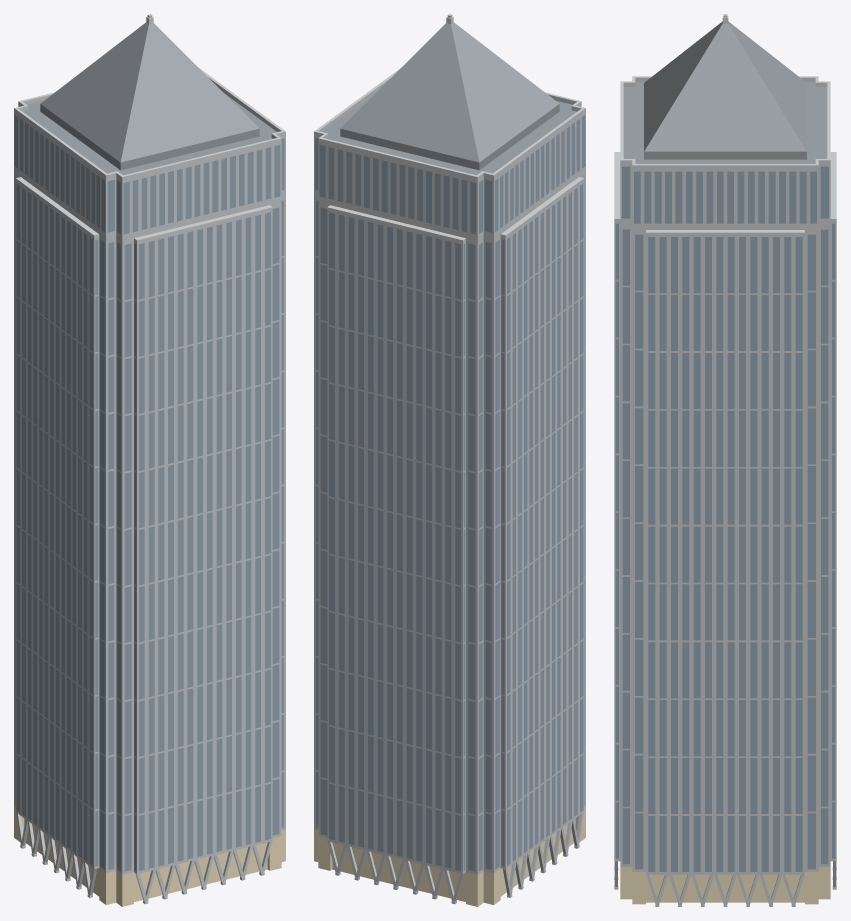
Rendered from london-one-canada-square.glb.
3 views of the same model, side by side, from view 1: azimuth 30°, elevation 25°; view 2: azimuth 150°, elevation 25°; view 3: azimuth 270°, elevation 25° (orthographic).
Visible parts, largest first — view 1: One Canada Square; view 2: One Canada Square; view 3: One Canada Square.
Boxes of the visible parts, left/top/right/bottom form: One Canada Square: left=14, top=14, right=285, bottom=906; One Canada Square: left=314, top=14, right=585, bottom=906; One Canada Square: left=614, top=14, right=836, bottom=906.
Size of the model in its own units: 56.08 by 235 by 56.08.
